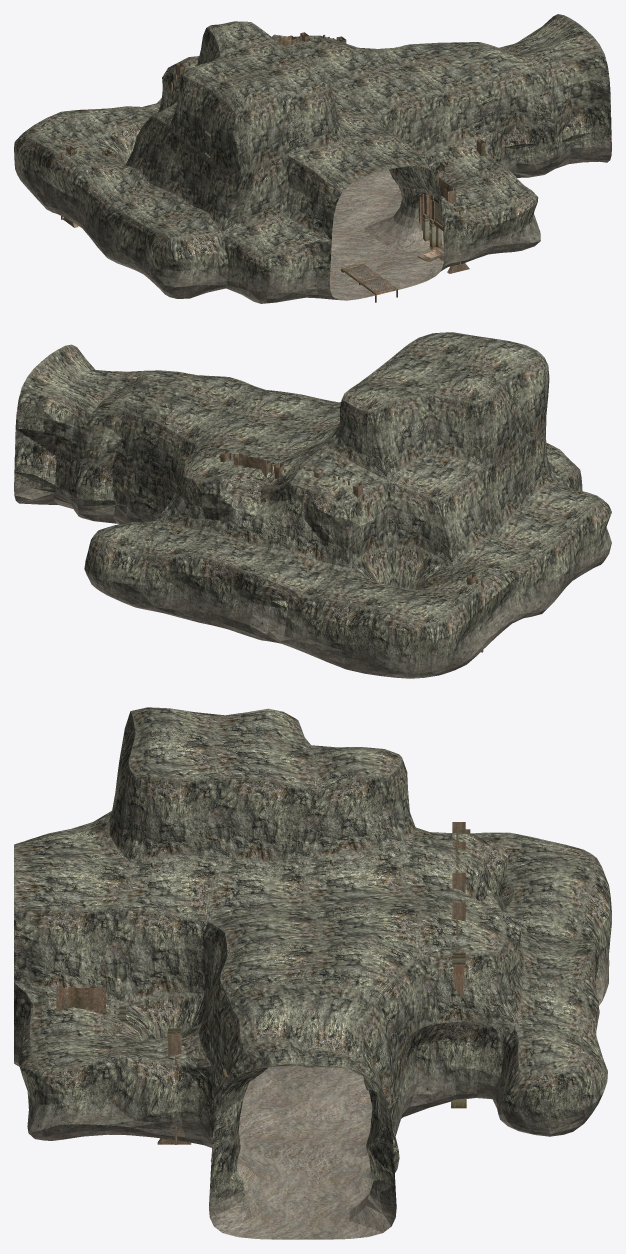
Rendered from poi_all_bunker_mad_bio_s01_r38_cavecages3_mesh_r38.fbx.
3 views of the same model, one above another, from view 1: azimuth 30°, elevation 25°; view 2: azimuth 150°, elevation 25°; view 3: azimuth 270°, elevation 25° (orthographic). The views are drawn at different scales.
Visible parts, largest first — view 1: mesh_node; view 2: mesh_node; view 3: mesh_node.
Boxes of the visible parts, left/top/right/bottom form: mesh_node: left=14, top=14, right=611, bottom=303; mesh_node: left=14, top=332, right=611, bottom=678; mesh_node: left=14, top=707, right=611, bottom=1239.
Size of the model in its own units: 64.19 by 25.58 by 49.7.
